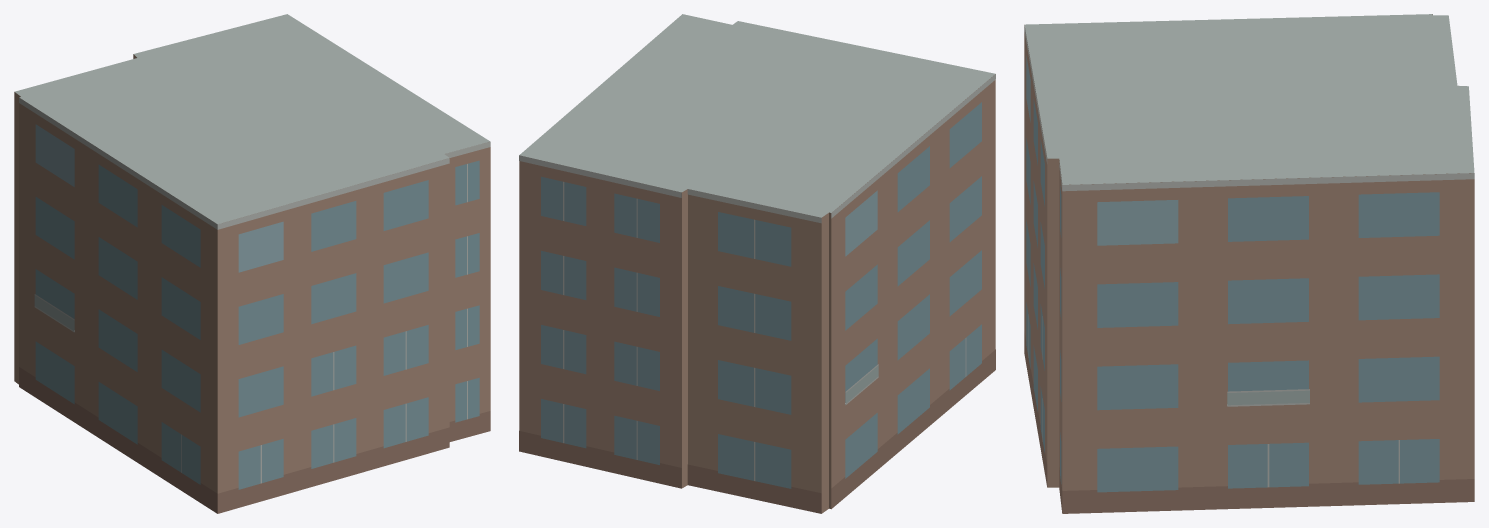
The model's file is survey-upis-32629274.glb.
The picture shows the model from 3 angles, left to right: view 1: azimuth 30°, elevation 25°; view 2: azimuth 150°, elevation 25°; view 3: azimuth 270°, elevation 25°; orthographic projection. The views are drawn at different scales.
Visible parts, largest first — view 1: survey-upis-32629274.tmp; view 2: survey-upis-32629274.tmp; view 3: survey-upis-32629274.tmp.
Boxes of the visible parts, x1,y1,x2,y2 form: survey-upis-32629274.tmp: (14, 14, 490, 513); survey-upis-32629274.tmp: (519, 14, 995, 513); survey-upis-32629274.tmp: (1024, 14, 1474, 513).
Bounding box in the file's own units: 14.28 × 12.8 × 15.88.
